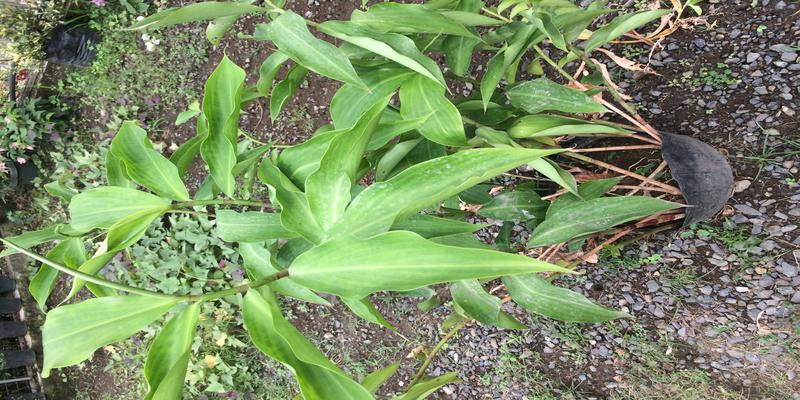Insulin: (218, 52, 668, 297)
